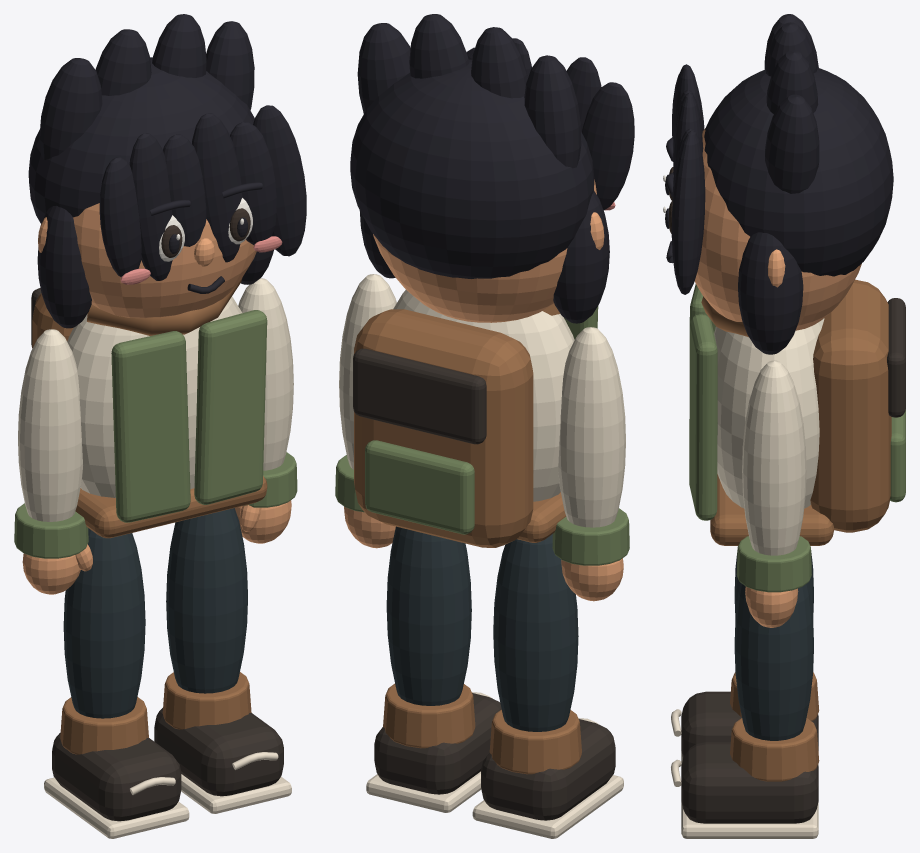
Rendered from player.glb.
3 renders of one model, left to right at view 1: azimuth 30°, elevation 25°; view 2: azimuth 150°, elevation 25°; view 3: azimuth 270°, elevation 25°, orthographic. The views are drawn at different scales.
Parts seen in each view (by area): view 1: Vest_-1, Leg_1, HairCap, Leg_-1, Vest_1, Arm_-1, Head, Torso, Shoe_-1, Shoe_1, Arm_1, SideHair_-1 (+22 smaller); view 2: HairCap, Backpack, Leg_-1, Leg_1, Arm_-1, BackpackFlap, BackpackPocket, Torso, Head, Shoe_-1, Shoe_1, Fringe_1 (+17 smaller); view 3: HairCap, Backpack, Arm_1, Leg_1, Torso, Shoe_1, Head, SideHair_1, Vest_1, Fringe_6, HairSpike_4, TrouserCuff_1 (+15 smaller).
Part boxes in pixels (left/top/right/bottom): Vest_-1: left=111, top=331, right=190, bottom=522; Leg_1: left=166, top=508, right=247, bottom=693; HairCap: left=28, top=57, right=254, bottom=223; Leg_-1: left=63, top=528, right=145, bottom=718; Vest_1: left=194, top=310, right=267, bottom=504; Arm_-1: left=18, top=329, right=82, bottom=521; Head: left=73, top=203, right=256, bottom=318; Torso: left=67, top=296, right=242, bottom=497; Shoe_-1: left=52, top=732, right=181, bottom=821; Shoe_1: left=154, top=708, right=283, bottom=796; Arm_1: left=238, top=278, right=293, bottom=470; SideHair_-1: left=37, top=205, right=91, bottom=328; HairCap: left=350, top=59, right=594, bottom=278; Backpack: left=354, top=309, right=533, bottom=547; Leg_-1: left=493, top=534, right=578, bottom=731; Leg_1: left=386, top=526, right=471, bottom=705; Arm_-1: left=558, top=327, right=625, bottom=527; BackpackFlap: left=353, top=348, right=486, bottom=444; BackpackPocket: left=365, top=440, right=474, bottom=534; Torso: left=393, top=290, right=574, bottom=501; Head: left=373, top=179, right=596, bottom=322; Shoe_-1: left=481, top=719, right=615, bottom=820; Shoe_1: left=374, top=693, right=501, bottom=794; Fringe_1: left=582, top=82, right=634, bottom=210; HairCap: left=704, top=67, right=893, bottom=276; Backpack: left=810, top=279, right=891, bottom=532; Arm_1: left=742, top=360, right=806, bottom=555; Leg_1: left=734, top=582, right=813, bottom=740; Torso: left=714, top=318, right=824, bottom=508; Shoe_1: left=681, top=742, right=818, bottom=823; Head: left=694, top=128, right=861, bottom=330; SideHair_1: left=738, top=232, right=803, bottom=354; Vest_1: left=689, top=314, right=717, bottom=520; Fringe_6: left=671, top=130, right=705, bottom=294; HairSpike_4: left=765, top=94, right=819, bottom=193; TrouserCuff_1: left=730, top=718, right=819, bottom=781.
Bounding box in the file's own units: 0.7171 × 1.9 × 0.549.
